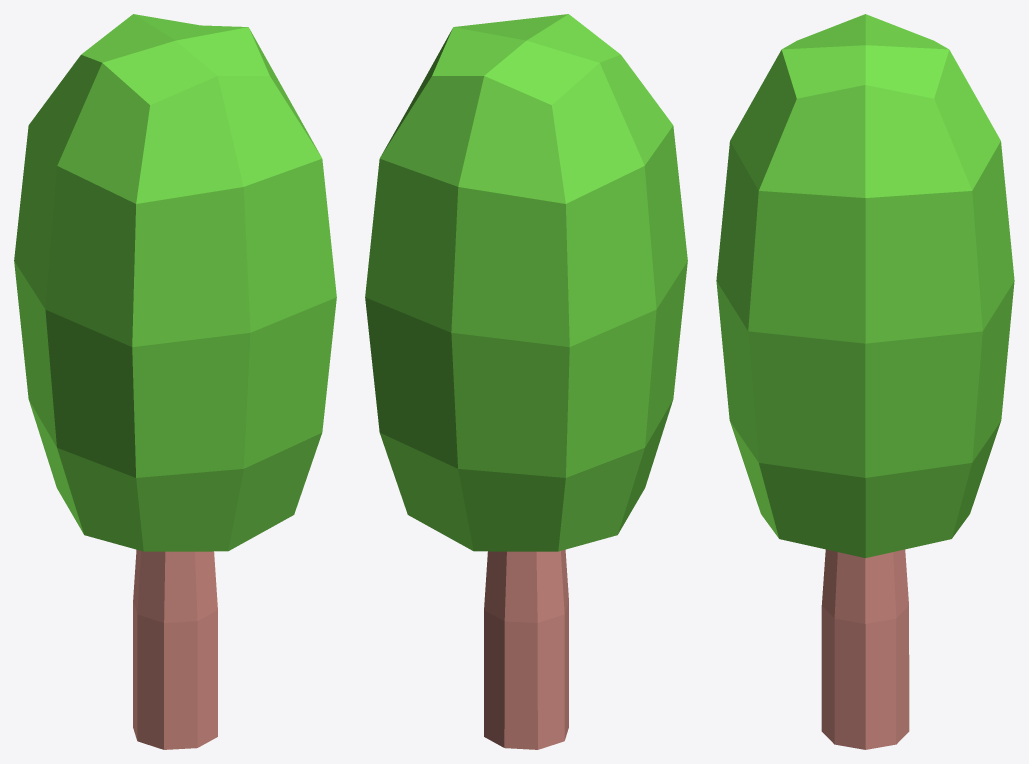
Rendered from Tree2.fbx.
The picture shows the model from 3 angles, left to right: view 1: azimuth 30°, elevation 25°; view 2: azimuth 150°, elevation 25°; view 3: azimuth 270°, elevation 25°; orthographic projection.
Visible parts, largest first — view 1: Cylinder; view 2: Cylinder; view 3: Cylinder.
Boxes of the visible parts, <box> form: Cylinder: <box>14,14,336,749</box>; Cylinder: <box>365,14,687,749</box>; Cylinder: <box>716,14,1014,749</box>.
Size of the model in its own units: 2.79 by 7.09 by 2.79.
